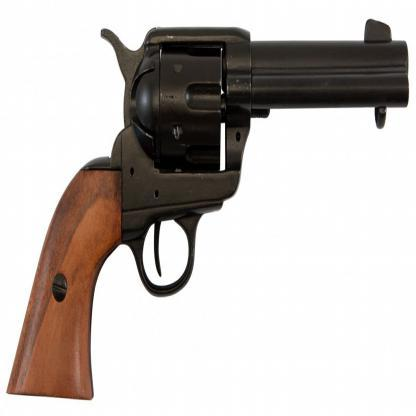gun: (3, 5, 410, 412)
